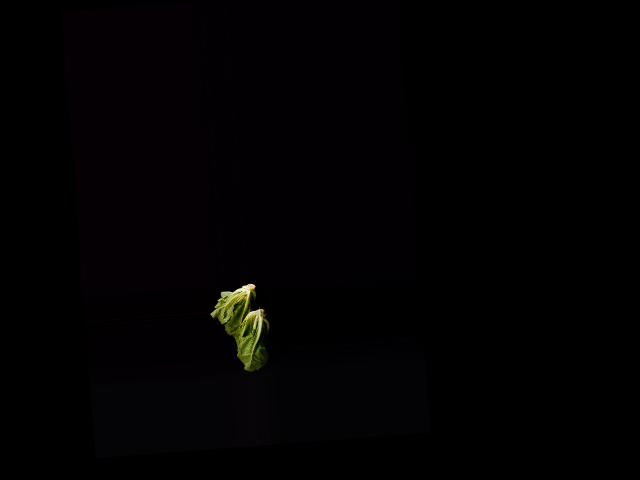lettuce: (209, 282, 266, 347)
